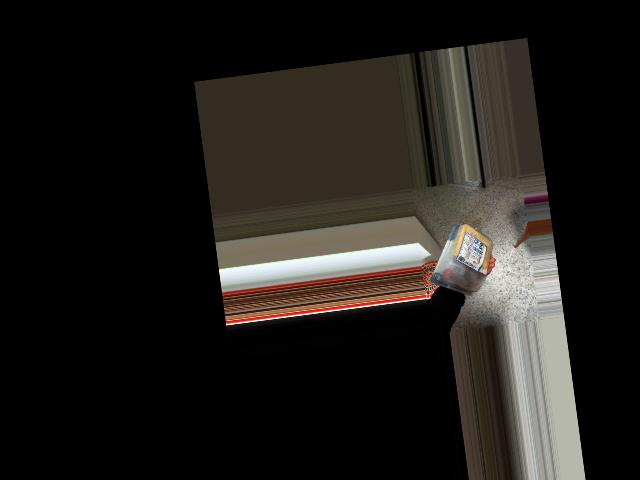cheese: (418, 215, 505, 304)
